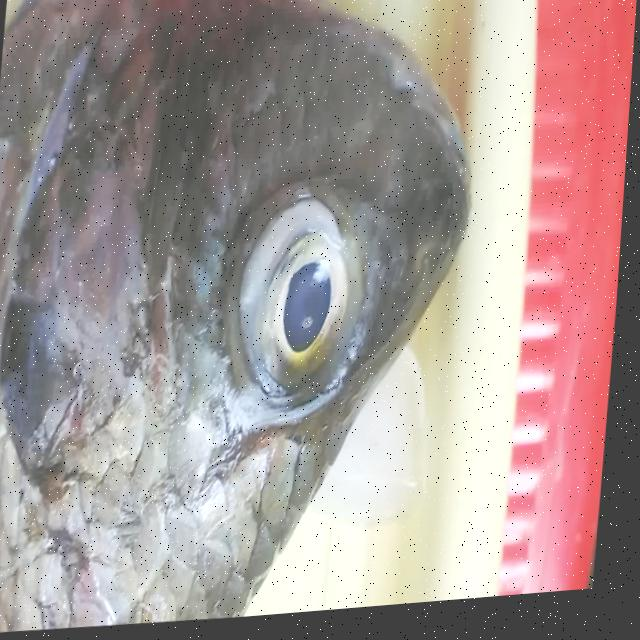Fresh: (176, 157, 398, 507)
